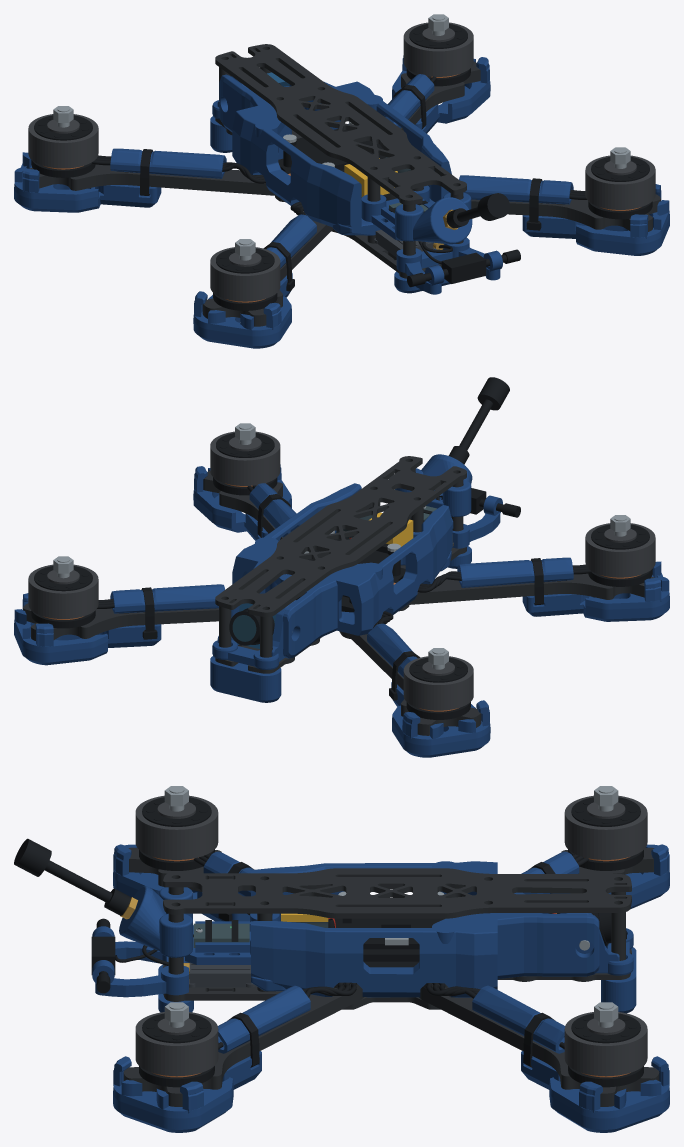
The model's file is dark-blue-assembly.glb.
The picture shows the model from 3 angles, top to bottom: view 1: azimuth 30°, elevation 25°; view 2: azimuth 150°, elevation 25°; view 3: azimuth 270°, elevation 25°; orthographic projection. The views are drawn at different scales.
Parts seen in each view (by area): view 1: Source One V5 carbon frame, stack-shroud, arm-strap-left.001, arm-strap-left, arm-strap-right.001, sma, wire_left, EMAX 2306 · graphite bell.001, EMAX 2306 · graphite bell, EMAX 2306 · graphite bell.002, EMAX 2306 · graphite bell.003, wire_left.001 (+17 smaller); view 2: Source One V5 carbon frame, stack-shroud, arm-strap-right, arm-strap-right.001, arm-strap-left, wire_right.001, wire_right, EMAX 2306 · graphite bell, EMAX 2306 · graphite bell.001, EMAX 2306 · graphite bell.002, EMAX 2306 · graphite bell.003, front-skid (+14 smaller); view 3: Source One V5 carbon frame, stack-shroud, arm-strap-right, arm-strap-left.001, sma, EMAX 2306 · graphite bell, EMAX 2306 · graphite bell.001, EMAX 2306 · graphite bell.002, EMAX 2306 · graphite bell.003, antenna, wire_left.001, wire_right (+24 smaller).
Boxes of the visible parts, x1,y1,x2,y2 form: Source One V5 carbon frame: (29,44,660,326); stack-shroud: (219,74,451,235); arm-strap-left.001: (522,184,669,255); arm-strap-left: (14,152,161,212); arm-strap-right.001: (193,273,292,348); sma: (395,192,472,244); wire_left: (110,148,226,178); EMAX 2306 · graphite bell.001: (28,114,98,168); EMAX 2306 · graphite bell: (210,247,280,301); EMAX 2306 · graphite bell.002: (585,155,655,209); EMAX 2306 · graphite bell.003: (403,22,473,76); wire_left.001: (459,175,573,204); Source One V5 carbon frame: (23,456,654,735); stack-shroud: (232,483,452,658); arm-strap-right: (14,593,161,665); arm-strap-right.001: (522,561,669,621); arm-strap-left: (391,682,490,757); wire_right.001: (457,557,573,587); wire_right: (110,584,224,613); EMAX 2306 · graphite bell: (585,523,655,577); EMAX 2306 · graphite bell.001: (403,656,473,710); EMAX 2306 · graphite bell.002: (210,431,280,485); EMAX 2306 · graphite bell.003: (28,564,98,618); front-skid: (210,656,281,702); Source One V5 carbon frame: (123,847,659,1106); stack-shroud: (251,861,599,997); arm-strap-right: (521,1051,669,1132); arm-strap-left.001: (113,1051,261,1132); sma: (119,886,192,957); EMAX 2306 · graphite bell: (135,795,218,859); EMAX 2306 · graphite bell.001: (564,795,647,859); EMAX 2306 · graphite bell.002: (135,1012,218,1076); EMAX 2306 · graphite bell.003: (564,1012,647,1076); antenna: (92,926,188,997); wire_left.001: (218,985,310,1053); wire_right: (472,985,564,1053).
Bounding box in the file's own units: 0.2163 × 0.0599 × 0.222.
